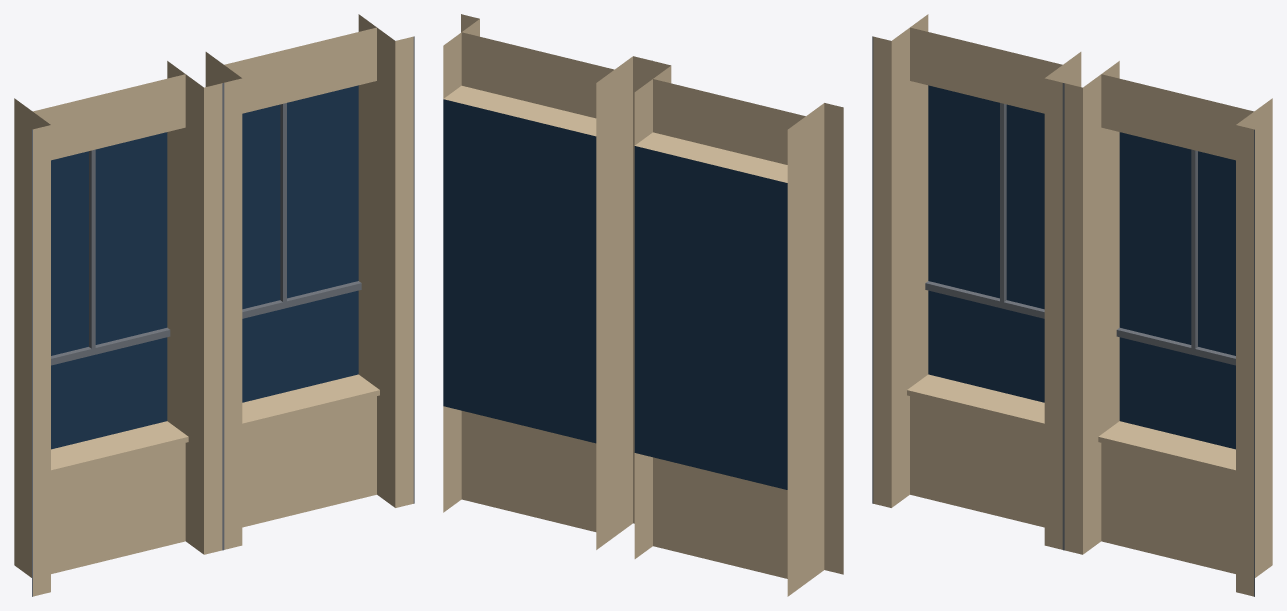
Rendered from mid-w1_close.fbx.
3 renders of one model, left to right at view 1: azimuth 30°, elevation 25°; view 2: azimuth 150°, elevation 25°; view 3: azimuth 330°, elevation 25°, orthographic.
Visible parts, largest first — view 1: a2012/400/mid-w1_close; view 2: a2012/400/mid-w1_close; view 3: a2012/400/mid-w1_close.
Part boxes in pixels (x1,y1,x2,y2): a2012/400/mid-w1_close: [14, 14, 414, 596]; a2012/400/mid-w1_close: [443, 14, 843, 596]; a2012/400/mid-w1_close: [872, 14, 1272, 596].
Size of the model in its own units: 3 by 3.5 by 0.502.
